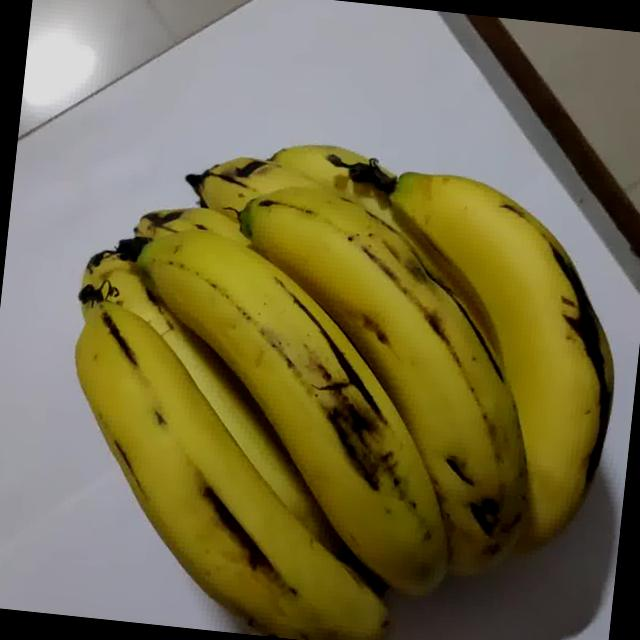banana_pacche: (43, 9, 640, 640)
